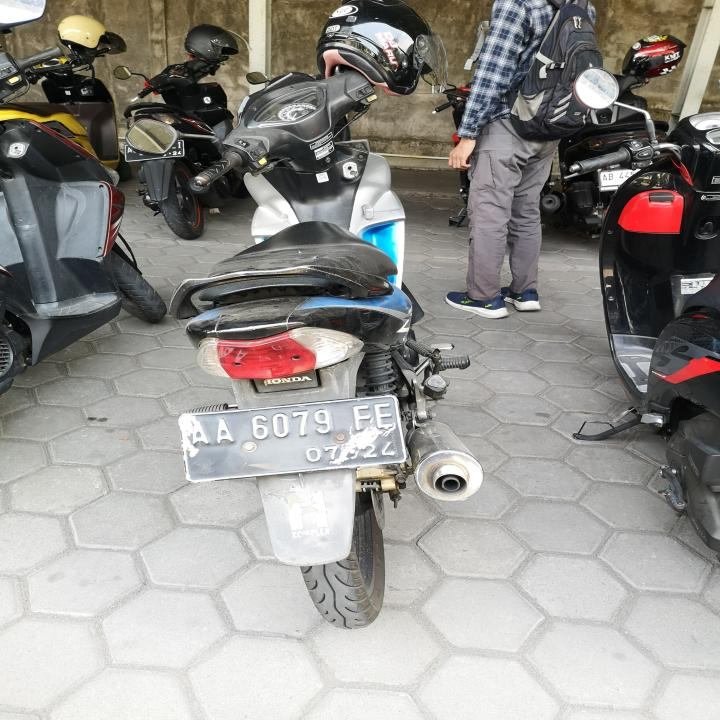plate: (179, 394, 408, 486)
